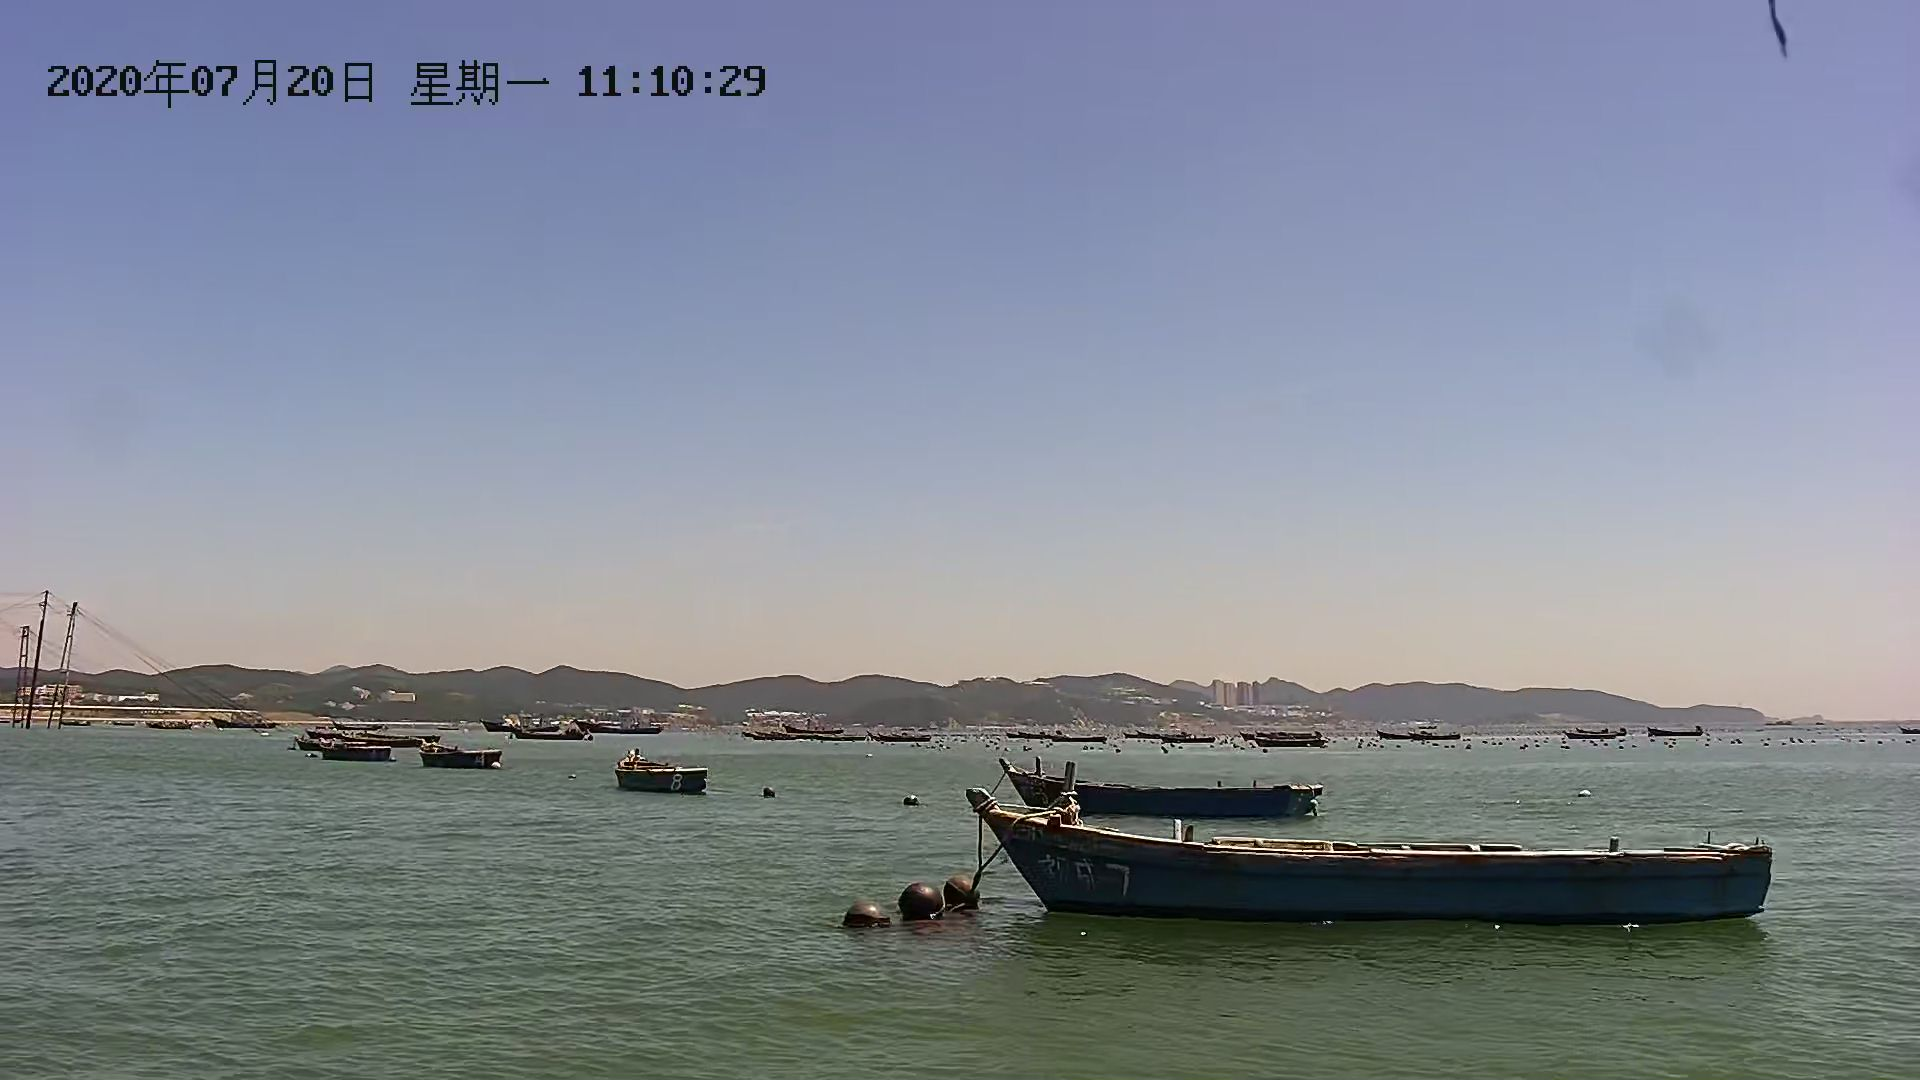ball: (891, 882, 944, 924), (840, 901, 885, 934), (944, 880, 982, 913), (754, 779, 787, 796), (898, 793, 927, 808)
boat: (963, 785, 1788, 934), (1000, 746, 1325, 832), (597, 745, 721, 799), (411, 738, 516, 778), (301, 735, 411, 767)
